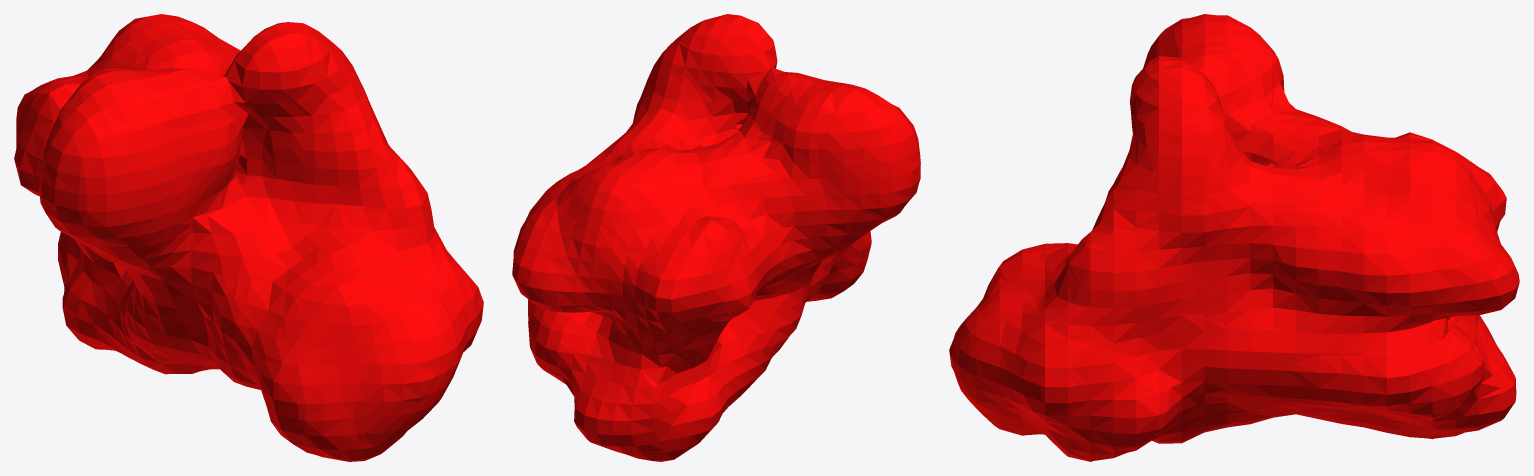
File: lgt_coarse.dae
3 renders of one model, left to right at view 1: azimuth 30°, elevation 25°; view 2: azimuth 150°, elevation 25°; view 3: azimuth 270°, elevation 25°, orthographic. The views are drawn at different scales.
Visible parts, largest first — view 1: lgt; view 2: lgt; view 3: lgt.
Part boxes in pixels (x1=…): lgt: x1=14, y1=14, x2=483, y2=461; lgt: x1=512, y1=14, x2=920, y2=461; lgt: x1=949, y1=14, x2=1519, y2=461.
Size of the model in its own units: 50.76 by 53.65 by 69.94.
